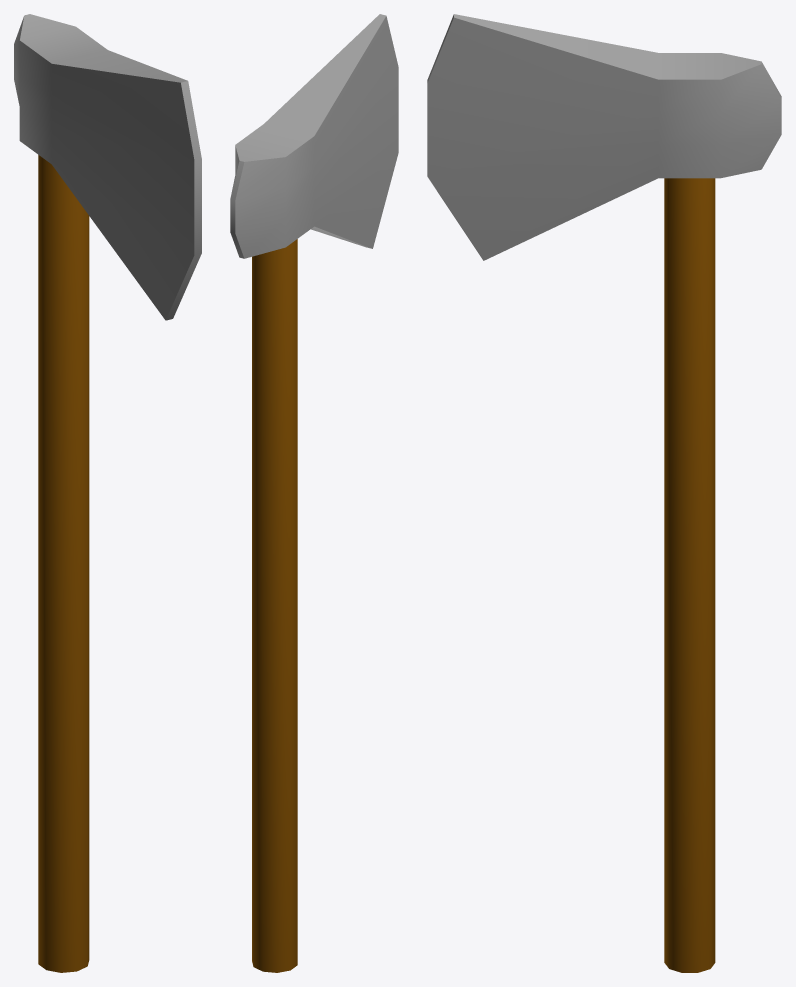
The model's file is SM_Prop_AxeSmall.fbx.
3 views of the same model, side by side, from view 1: azimuth 30°, elevation 25°; view 2: azimuth 150°, elevation 25°; view 3: azimuth 270°, elevation 25° (orthographic). The views are drawn at different scales.
Visible parts, largest first — view 1: SM_Prop_AxeSmall; view 2: SM_Prop_AxeSmall; view 3: SM_Prop_AxeSmall.
Boxes of the visible parts, x1,y1,x2,y2 form: SM_Prop_AxeSmall: (14,14,201,972); SM_Prop_AxeSmall: (230,14,398,972); SM_Prop_AxeSmall: (427,14,781,972).
Size of the model in its own units: 3.33 by 54.85 by 18.62.
